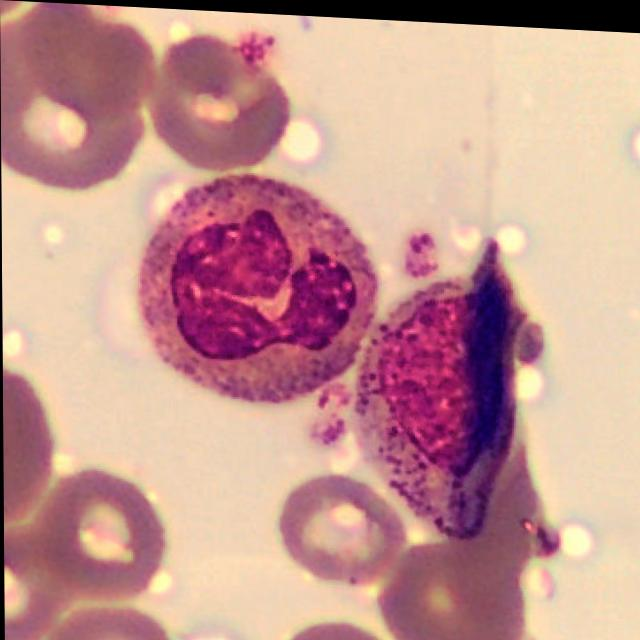Neutrofilo segmentado: (134, 170, 378, 402)
